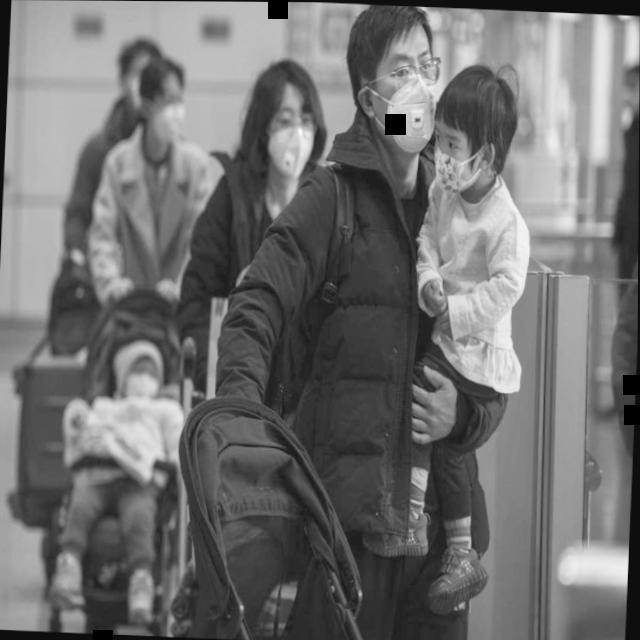Mask: (338, 3, 441, 160), (429, 52, 519, 205), (241, 51, 325, 190), (129, 48, 193, 151), (110, 335, 166, 405)
